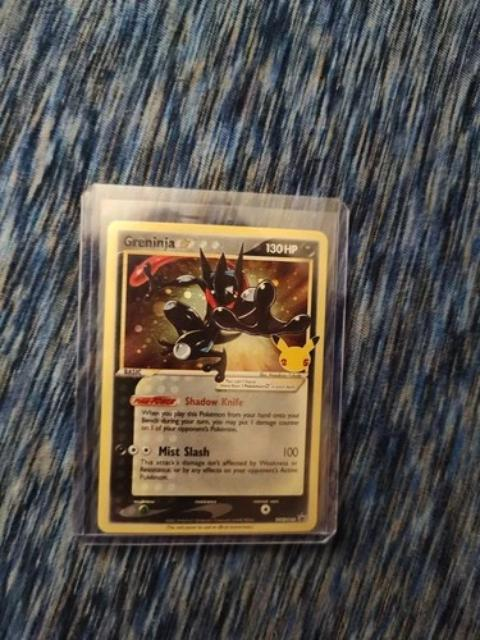Card: (95, 219, 330, 536)
Name: (118, 230, 203, 252)
